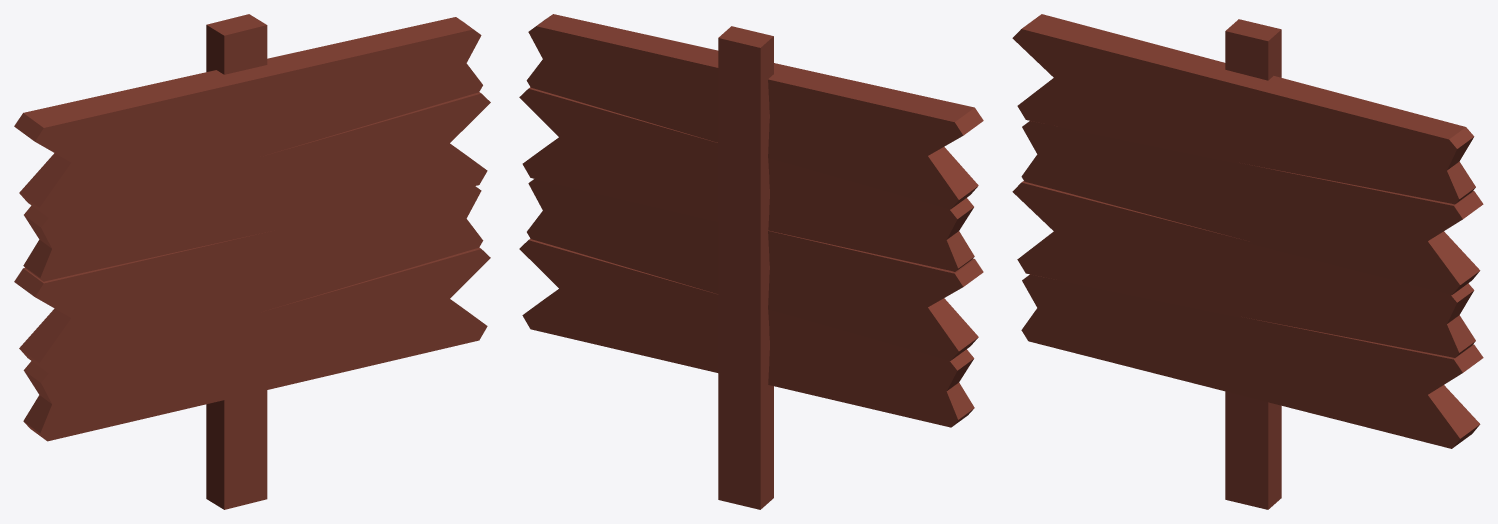
The model's file is 8_Placa.fbx.
3 renders of one model, left to right at view 1: azimuth 30°, elevation 25°; view 2: azimuth 150°, elevation 25°; view 3: azimuth 330°, elevation 25°, orthographic. The views are drawn at different scales.
Visible parts, largest first — view 1: Plane; view 2: Plane; view 3: Plane.
Part boxes in pixels (x1,y1,x2,y2): Plane: (14, 14, 490, 509); Plane: (519, 14, 983, 509); Plane: (1012, 14, 1483, 509).
Bounding box in the file's own units: 52.1 × 51.76 × 5.77.
